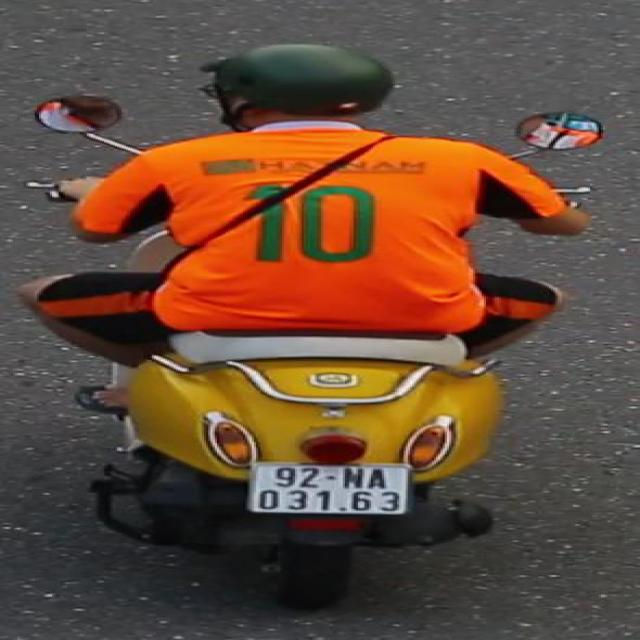LP: (248, 459, 412, 520)
helmet: (203, 37, 402, 144)
